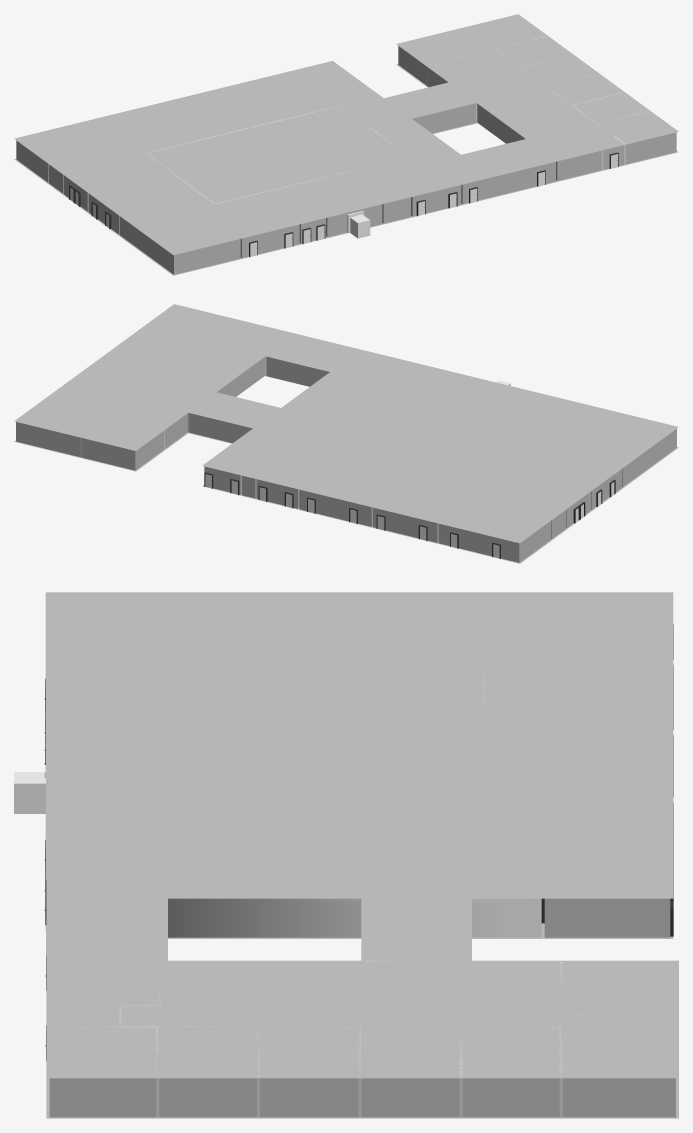
The model's file is FYP_Hospital.fbx.
The picture shows the model from 3 angles, top to bottom: view 1: azimuth 30°, elevation 25°; view 2: azimuth 150°, elevation 25°; view 3: azimuth 270°, elevation 25°; orthographic projection. The views are drawn at different scales.
Parts seen in each view (by area): view 1: Ceiling, Patient Rooms Wing MAIN Walls, Lobby Wall, Test Room Wall (Closed), Doctor's Office Wall (2 DOOR OPENING), Elevator Waiting Room Wall, Test Room Wall (2 DOOR OPENING), Trauma Ward MAIN Walls, Blood Lab 2 Room Wall (2 DOOR OPENING), Blood Lab 2 Room Wall (Closed), Doctor's Office Wall (Closed), Storage Room 3 Wall (+3 smaller); view 2: Ceiling, Patient Rooms Wing MAIN Walls, Trauma Ward Wall (2 DOOR OPENING), ICU Wall (2 DOOR OPENING), Test Room MAIN Walls, Lobby Wall, Operating Theater Wall (2 DOOR OPENING), Trauma Ward MAIN Walls, Trauma Ward Wall (Closed), Medical Room Wall (2 DOOR OPENING), Blood Lab 1 Wall (2 DOOR OPENING), ICU Wall (Closed) (+1 smaller); view 3: Ceiling, Patient Rooms Wing MAIN Walls, Hallway Walls, Blood Lab 1 MAIN Wall, Patient Rooms Wing Floors, Lift.001.
Boxes of the visible parts, <box> form: Ceiling: <box>14,14,678,255</box>; Patient Rooms Wing MAIN Walls: <box>398,31,676,180</box>; Lobby Wall: <box>119,216,240,274</box>; Test Room Wall (Closed): <box>462,162,555,203</box>; Doctor's Office Wall (2 DOOR OPENING): <box>242,224,299,257</box>; Elevator Waiting Room Wall: <box>326,204,382,237</box>; Test Room Wall (2 DOOR OPENING): <box>462,162,555,204</box>; Trauma Ward MAIN Walls: <box>16,140,48,182</box>; Blood Lab 2 Room Wall (2 DOOR OPENING): <box>412,185,461,216</box>; Blood Lab 2 Room Wall (Closed): <box>412,185,461,215</box>; Doctor's Office Wall (Closed): <box>242,225,299,257</box>; Storage Room 3 Wall: <box>382,197,410,223</box>; Ceiling: <box>14,304,678,543</box>; Patient Rooms Wing MAIN Walls: <box>16,320,266,470</box>; Trauma Ward Wall (2 DOOR OPENING): <box>438,523,519,562</box>; ICU Wall (2 DOOR OPENING): <box>299,490,371,526</box>; Test Room MAIN Walls: <box>266,356,329,386</box>; Lobby Wall: <box>622,429,676,487</box>; Operating Theater Wall (2 DOOR OPENING): <box>373,507,437,542</box>; Trauma Ward MAIN Walls: <box>519,521,551,562</box>; Trauma Ward Wall (Closed): <box>438,524,518,562</box>; Medical Room Wall (2 DOOR OPENING): <box>256,479,297,508</box>; Blood Lab 1 Wall (2 DOOR OPENING): <box>204,466,240,494</box>; ICU Wall (Closed): <box>299,490,371,526</box>; Ceiling: <box>45,592,678,1078</box>; Patient Rooms Wing MAIN Walls: <box>49,960,675,1117</box>; Hallway Walls: <box>168,898,541,937</box>; Blood Lab 1 MAIN Wall: <box>544,898,670,937</box>; Patient Rooms Wing Floors: <box>46,1078,678,1118</box>; Lift.001: <box>14,772,45,813</box>.
Size of the model in its own units: 10309 by 400 by 5959.
